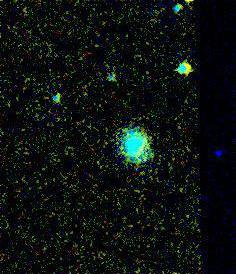star: (174, 0, 204, 16)
